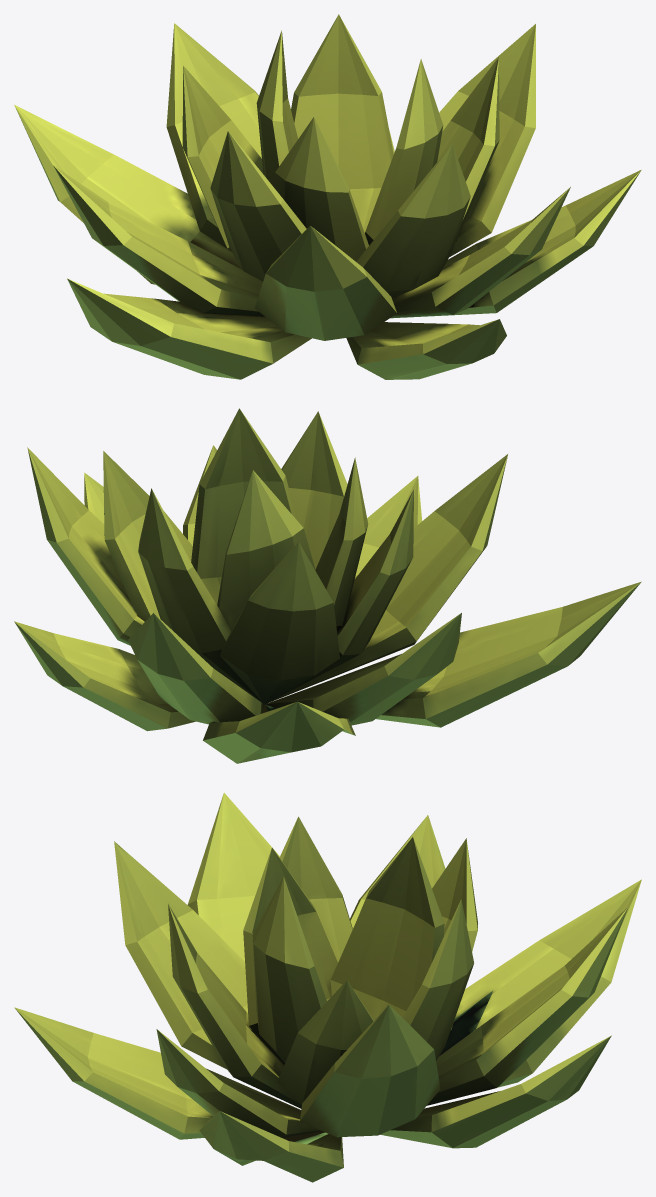
File: 3d-bunga1.glb
The picture shows the model from 3 angles, top to bottom: view 1: azimuth 30°, elevation 25°; view 2: azimuth 150°, elevation 25°; view 3: azimuth 270°, elevation 25°; orthographic projection. The views are drawn at different scales.
Parts seen in each view (by area): view 1: Object_2; view 2: Object_2; view 3: Object_2.
Boxes of the visible parts, x1=… form: Object_2: x1=14, y1=14, x2=641, y2=379; Object_2: x1=14, y1=408, x2=641, y2=763; Object_2: x1=14, y1=792, x2=641, y2=1182.
Bounding box in the file's own units: 2 × 0.9071 × 1.84.
1 material, 1 textured.
